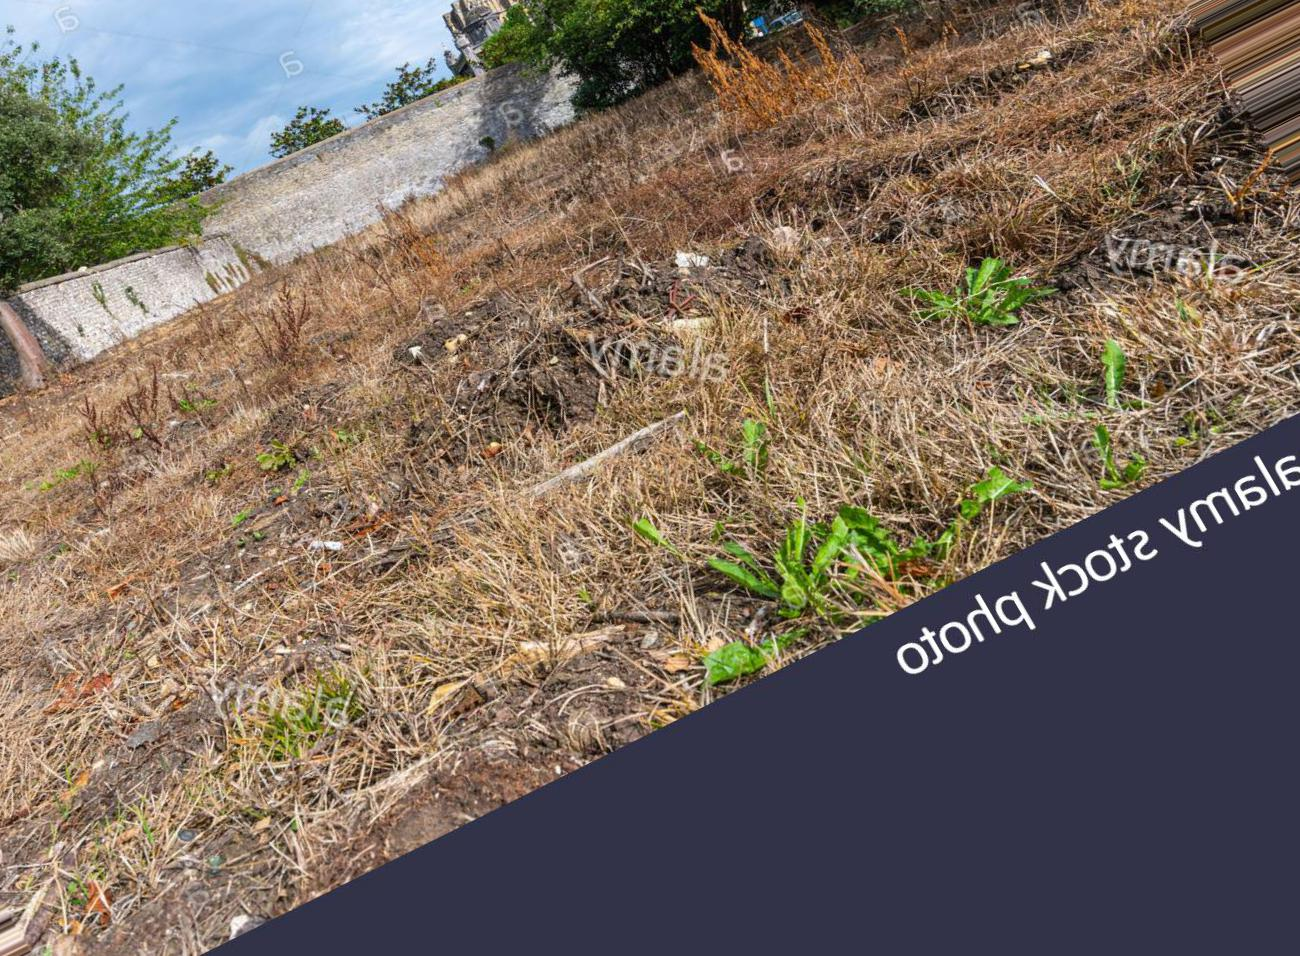patch: (118, 437, 653, 668), (493, 231, 1154, 405), (196, 248, 516, 435), (520, 127, 1150, 209), (58, 629, 288, 813)
